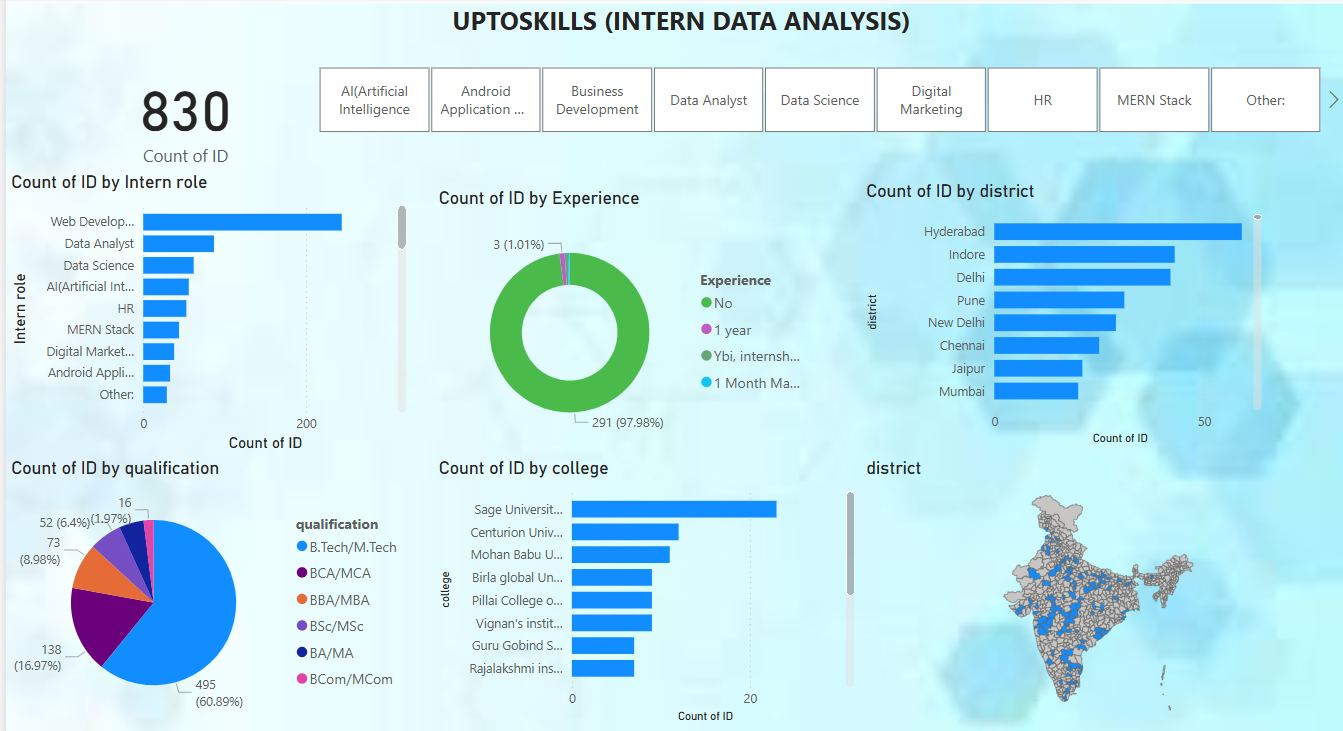

Layout of this report page (visuals, bound fields, positions):
{"tool":"powerbi","page":{"name":"Page 1","canvas":[1280,720],"ordinal":0},"visuals":[{"type":"textbox","box":[9.4,0,1269.9,60.5],"z":0},{"type":"card","fields":{"Values":["CountNonNull(Structured_Intern_Applications.ID)"]},"box":[9.1,60.6,325.6,106],"z":1000},{"type":"barChart","fields":{"Category":["Structured_Intern_Applications.role"],"Y":["CountNonNull(Structured_Intern_Applications.ID)"]},"box":[0,166.6,387.6,272.6],"z":2000},{"type":"pieChart","fields":{"Category":["Structured_Intern_Applications.qualification"],"Y":["Count(Structured_Intern_Applications.ID)"]},"box":[0,439.1,387.6,257.4],"z":3000},{"type":"clusteredBarChart","fields":{"Category":["Structured_Intern_Applications.college "],"Y":["CountNonNull(Structured_Intern_Applications.ID)"]},"box":[408.8,439.1,407.3,257.4],"z":4000},{"type":"donutChart","fields":{"Category":["Structured_Intern_Applications.Experience"],"Y":["CountNonNull(Structured_Intern_Applications.ID)"]},"box":[408.8,181.7,366.4,257.4],"z":5000},{"type":"shapeMap","fields":{"Category":["Structured_Intern_Applications.district"]},"box":[816.2,439.1,452.7,257.4],"z":6000},{"type":"barChart","fields":{"Category":["Structured_Intern_Applications.district"],"Y":["CountNonNull(Structured_Intern_Applications.ID)"]},"box":[816.2,174.1,387.6,257.4],"z":7000},{"type":"slicer","fields":{"Values":["Structured_Intern_Applications.role"]},"box":[274,60.5,1005.4,75.6],"z":8000}]}

Visuals, with their boxes on the page's 1280x720 design canvas (x1, y1, x2, y2). These are canvas units, not pixel positions in the 1343x731 screenshot, which may show the page scaled, cropped or inside an application window:
textbox: <region>9, 0, 1279, 60</region>
card - CountNonNull(Structured_Intern_Applications.ID): <region>9, 61, 335, 167</region>
barChart - Structured_Intern_Applications.role x CountNonNull(Structured_Intern_Applications.ID): <region>0, 167, 388, 439</region>
pieChart - Structured_Intern_Applications.qualification x Count(Structured_Intern_Applications.ID): <region>0, 439, 388, 696</region>
clusteredBarChart - Structured_Intern_Applications.college  x CountNonNull(Structured_Intern_Applications.ID): <region>409, 439, 816, 696</region>
donutChart - Structured_Intern_Applications.Experience x CountNonNull(Structured_Intern_Applications.ID): <region>409, 182, 775, 439</region>
shapeMap - Structured_Intern_Applications.district: <region>816, 439, 1269, 696</region>
barChart - Structured_Intern_Applications.district x CountNonNull(Structured_Intern_Applications.ID): <region>816, 174, 1204, 432</region>
slicer - Structured_Intern_Applications.role: <region>274, 60, 1279, 136</region>
